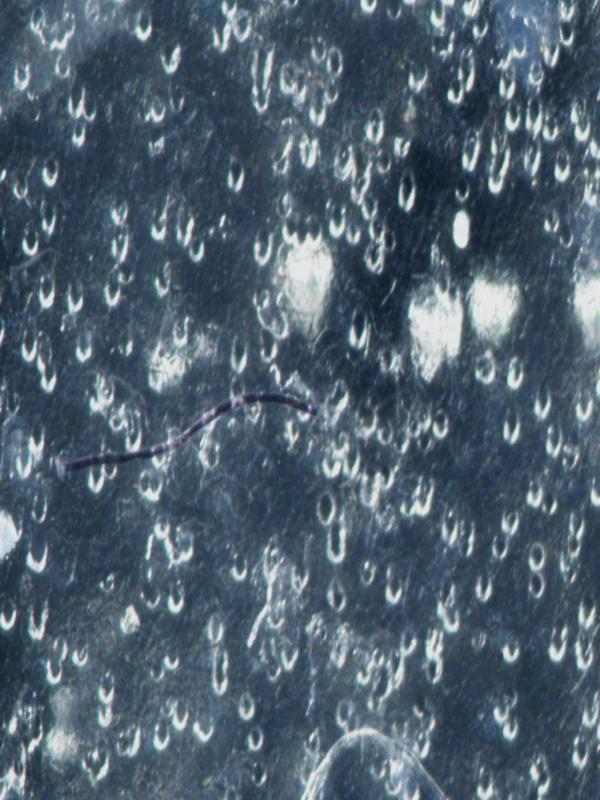microplastic: (1, 1, 598, 797), (53, 386, 318, 487)
